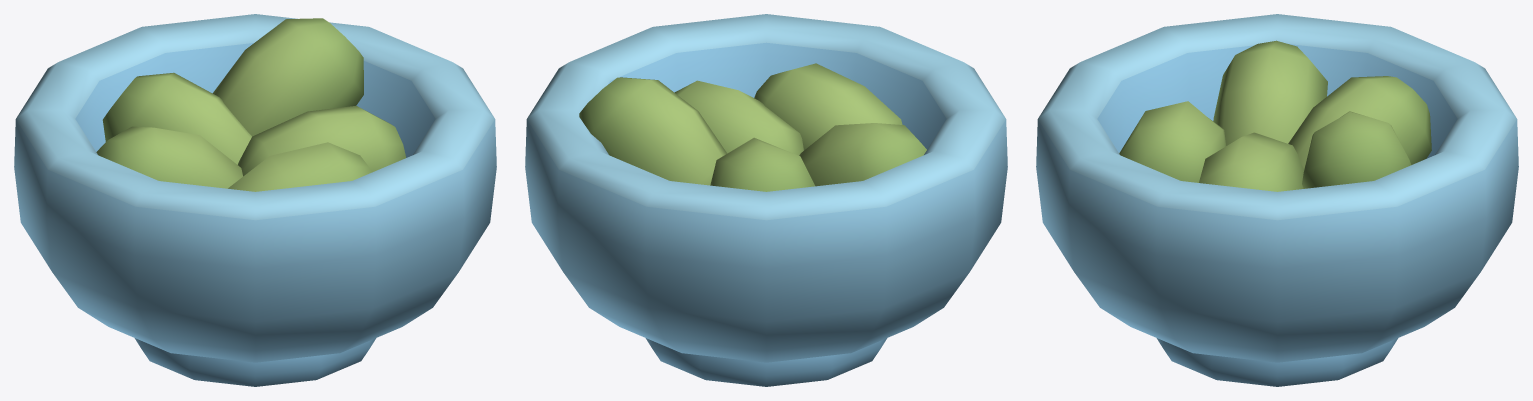
Rendered from fruitBowl.glb.
3 renders of one model, left to right at view 1: azimuth 30°, elevation 25°; view 2: azimuth 150°, elevation 25°; view 3: azimuth 270°, elevation 25°, orthographic.
Visible parts, largest first — view 1: grapes_bowl; view 2: grapes_bowl; view 3: grapes_bowl.
Boxes of the visible parts, x1,y1,x2,y2 form: grapes_bowl: [14, 14, 496, 386]; grapes_bowl: [525, 14, 1007, 386]; grapes_bowl: [1036, 14, 1518, 386].
Bounding box in the file's own units: 0.4 × 0.2397 × 0.4.
1 material, 1 textured.
